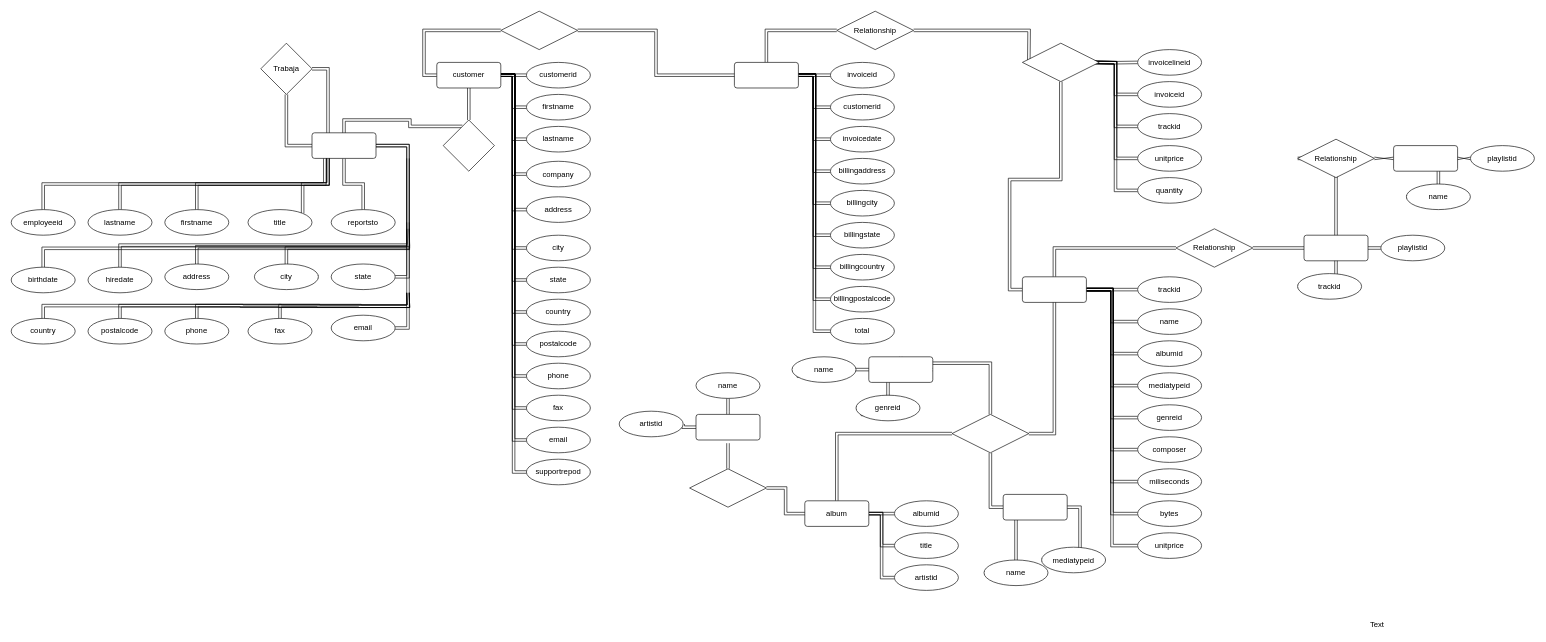
Some shapes in this 1546 by 642 pixel diagram are drawn without their labels. The shapes that lost their labels are listed below. From the top down, each one's centre as x and y in pixels, then its label:
At point (539, 30): "Recibe".
At point (766, 75): "invoice".
At point (1060, 62): "invoiceline".
At point (343, 145): "employee".
At point (468, 145): "Atiende".
At point (1425, 158): "playlist".
At point (1335, 248): "playlisttrack".
At point (1054, 289): "track".
At point (900, 369): "genre".
At point (727, 427): "artist".
At point (990, 433): "Reproduce".
At point (727, 487): "Hace".
At point (1035, 507): "mediatype".
